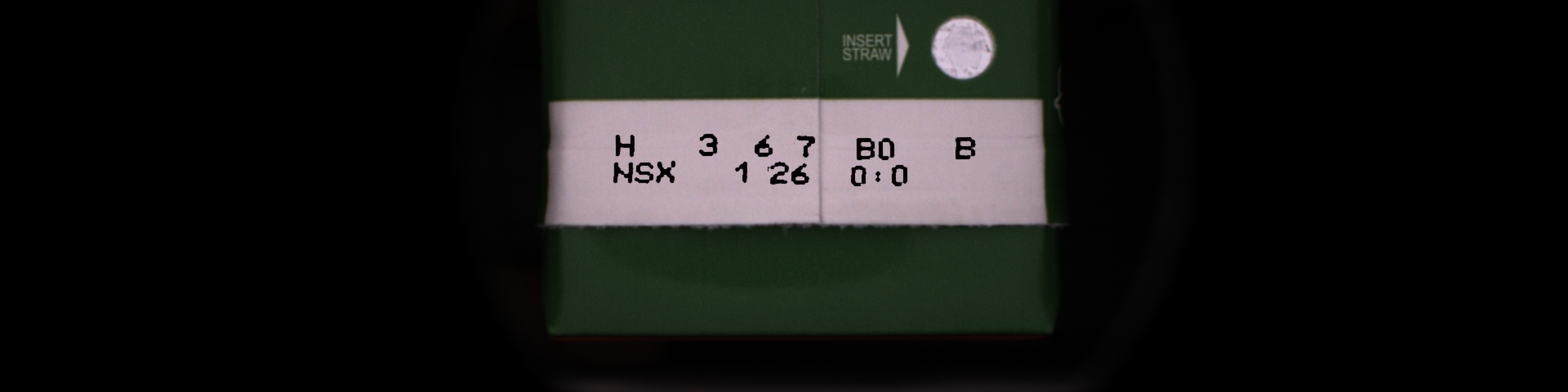date: (952, 134, 978, 163), (655, 158, 679, 187), (794, 133, 818, 160), (790, 159, 813, 187), (610, 159, 634, 185), (613, 131, 635, 159), (768, 159, 790, 187), (753, 133, 774, 161), (855, 135, 876, 163), (697, 131, 718, 158), (633, 159, 654, 185), (876, 135, 896, 161), (890, 162, 908, 190), (849, 163, 868, 189), (735, 160, 751, 186), (871, 164, 885, 187)
